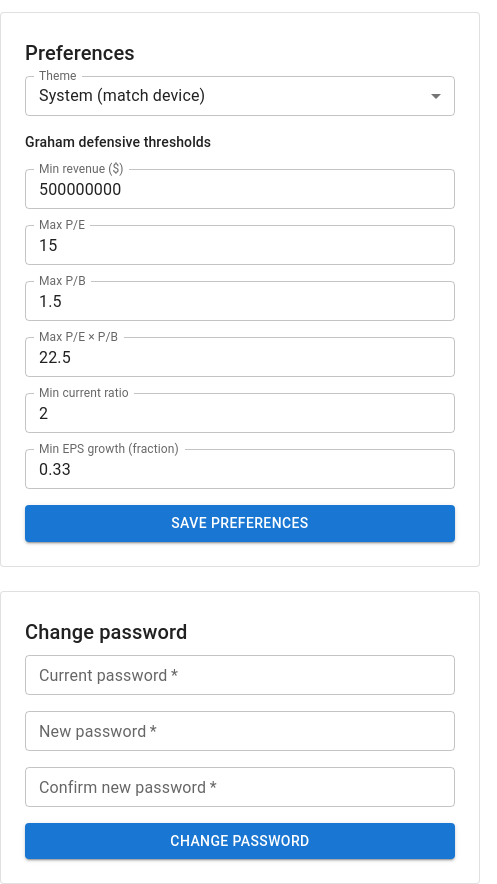
Test: surfaces a wrong-old-password error
(page scrolled)
Type "wrong" into the password field labelled "Current password".
click(240, 675); type("wrong")  # box [25,655,455,695]
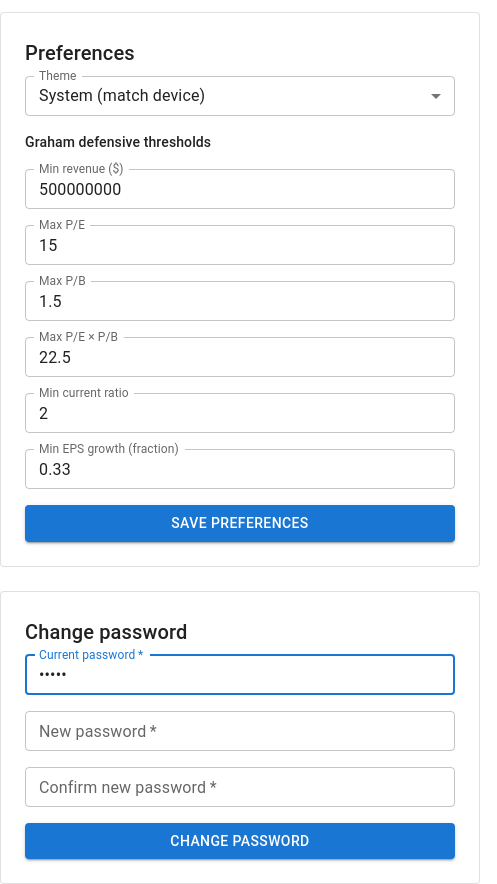
Type "newpass" into the password field labelled "New password".
click(240, 731); type("newpass")  # box [25,711,455,751]
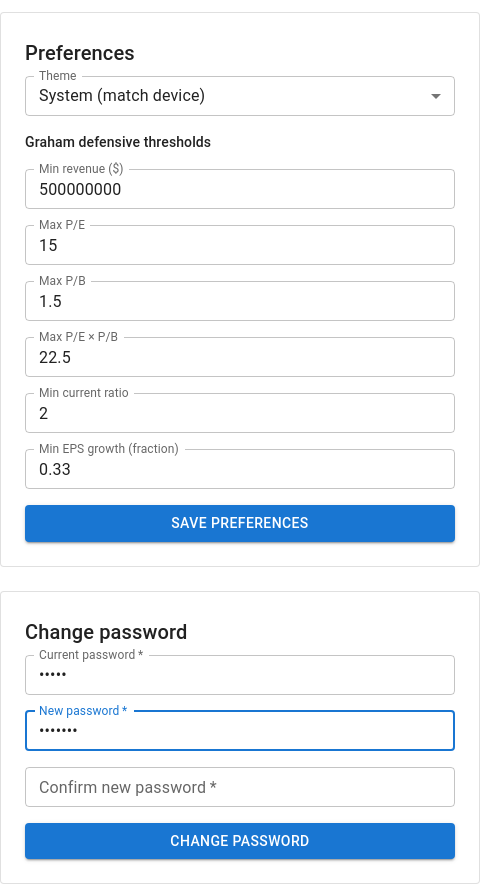
Type "newpass" into the password field named "confirm password".
click(240, 787); type("newpass")  # box [25,767,455,807]
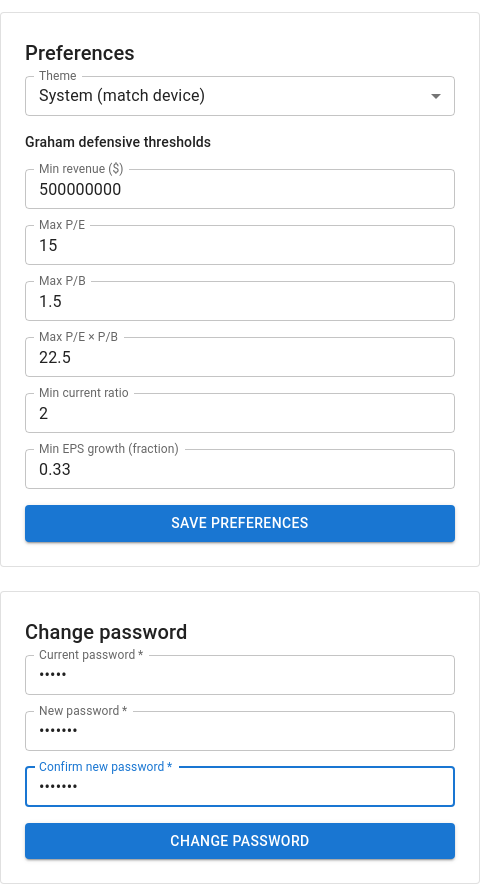
Click the button "Change password".
click(240, 841)  # box [25,823,455,860]
(page scrolled)
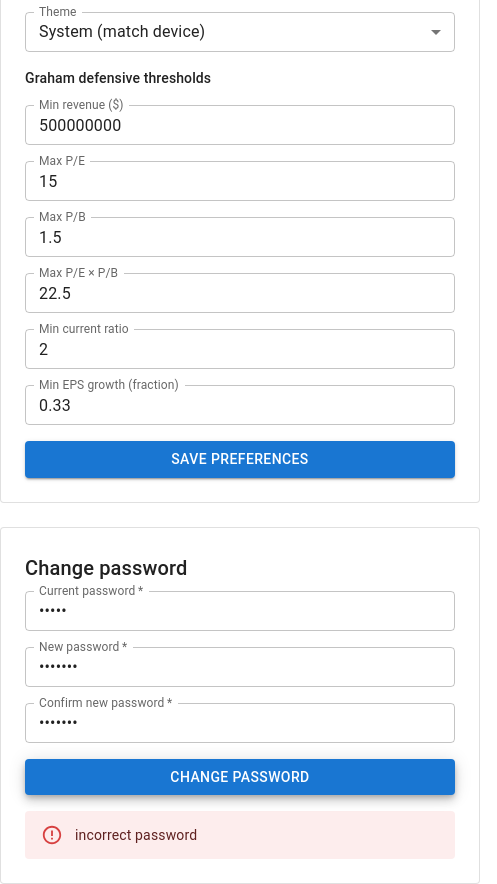
Now the text "incorrect password" is shown, box [75,828,197,844]
